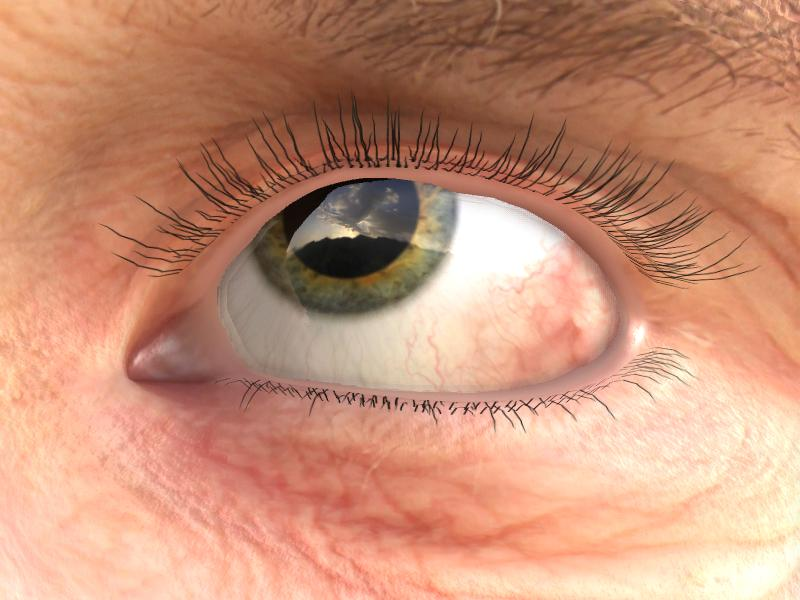eye: (249, 181, 456, 310)
